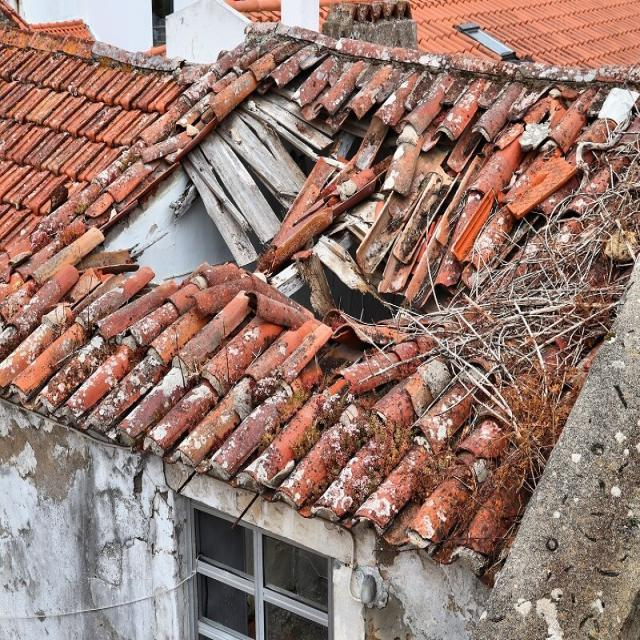damaged_roof: (94, 62, 486, 355)
